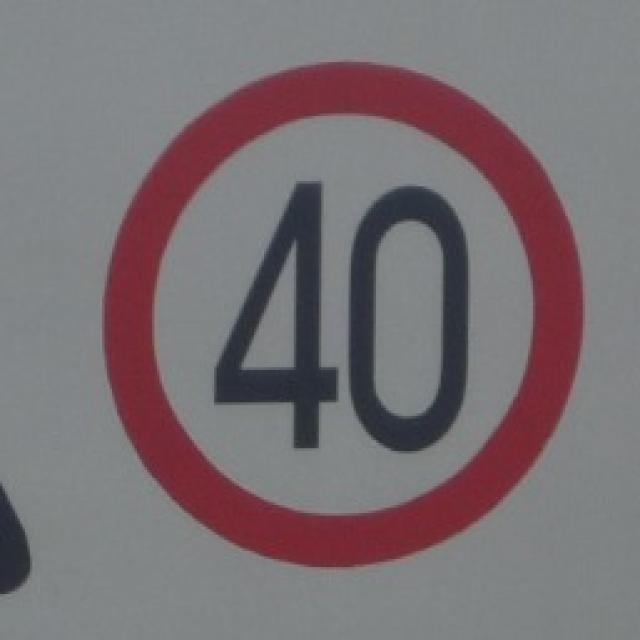Speed Limit -40-: (212, 178, 488, 451)
